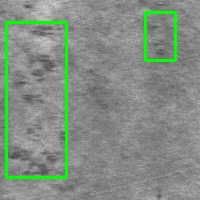rolled-in_scale: (6, 22, 66, 177), (145, 12, 175, 60)
